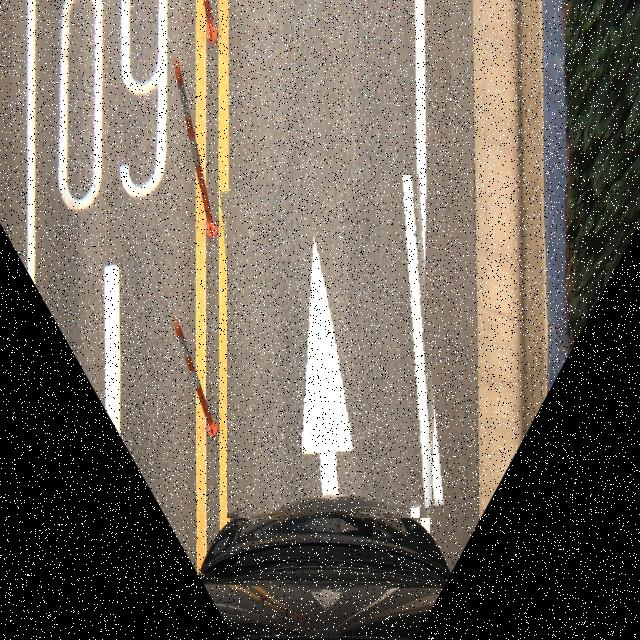forward: (227, 178, 441, 518)
